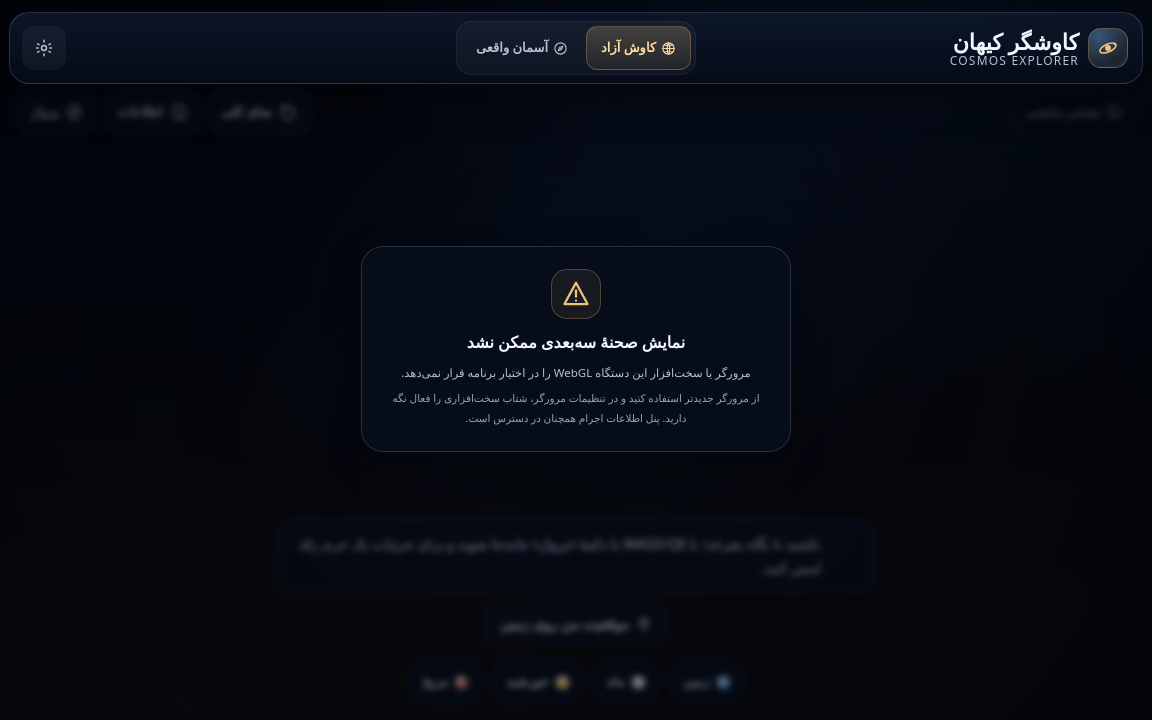
Test case: application flows › keeps the map layer control available without attribution when no map is active
Expected: the heading "نمایش صحنهٔ سه‌بعدی ممکن نشد" is shown, [467,331,685,353]
Click the button "موقعیت من روی زمین": point(576, 624) [486,602,666,646]
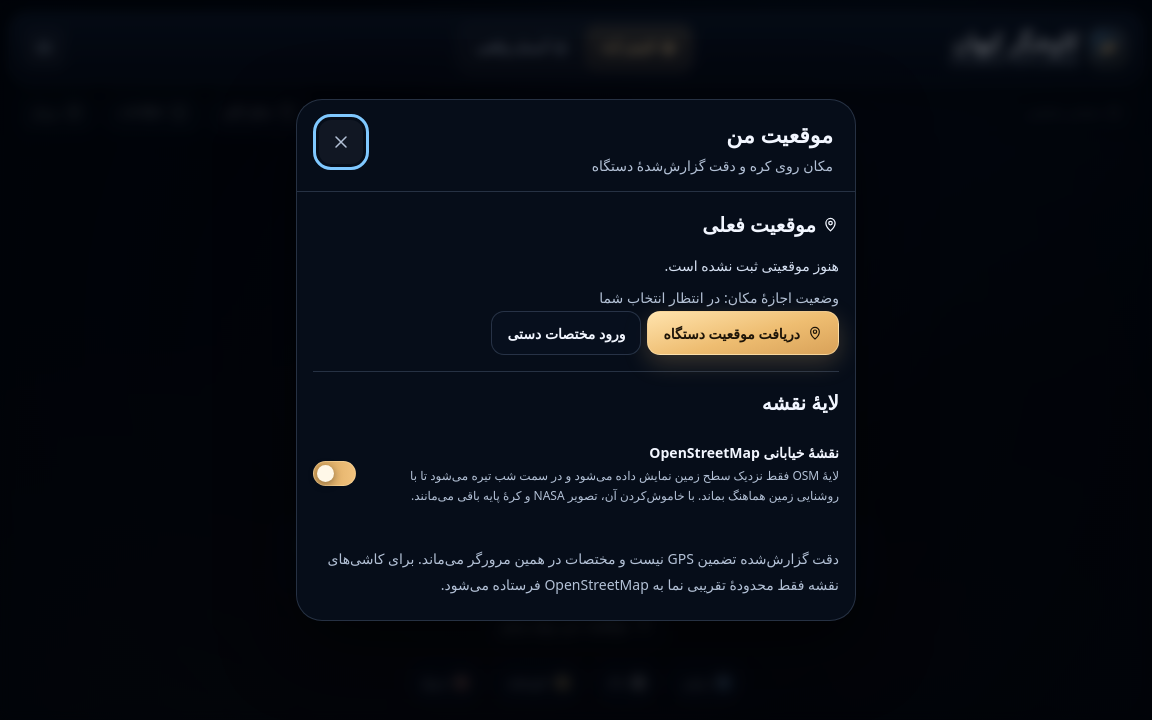
Click the button "ورود مختصات دستی": point(566, 333) [491,311,641,355]
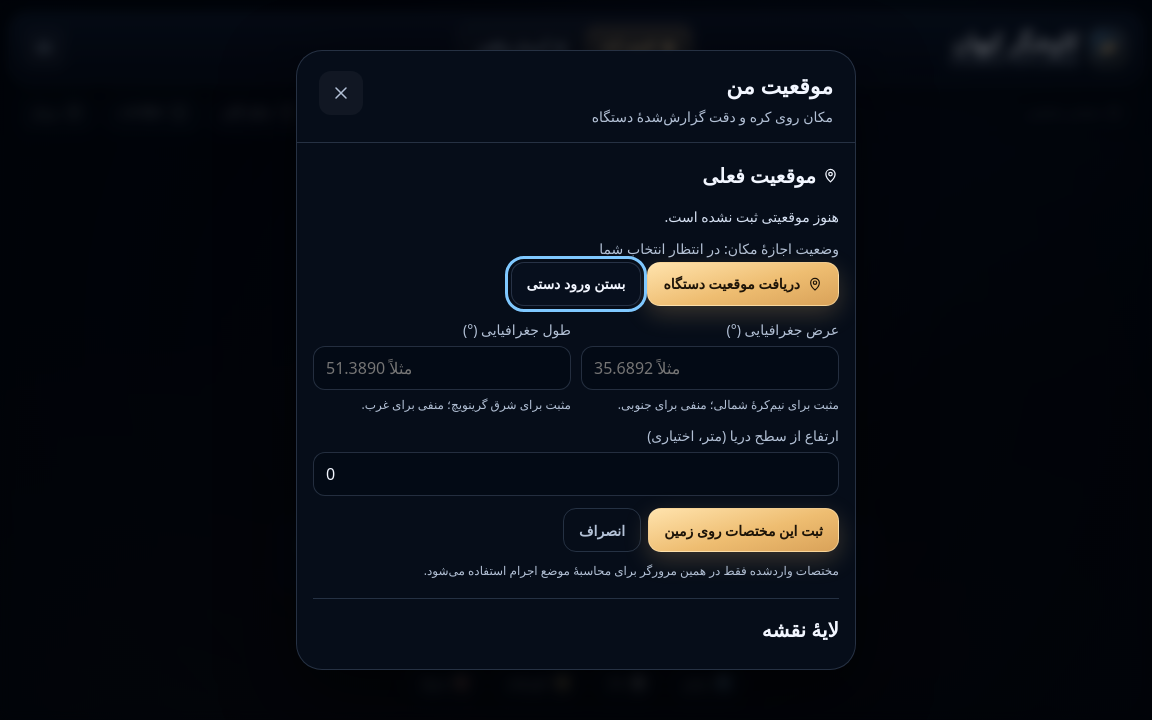
In the field with placeholder "مثلاً 35.6892": point(710, 368) [581,346,839,390], type "35.6892"
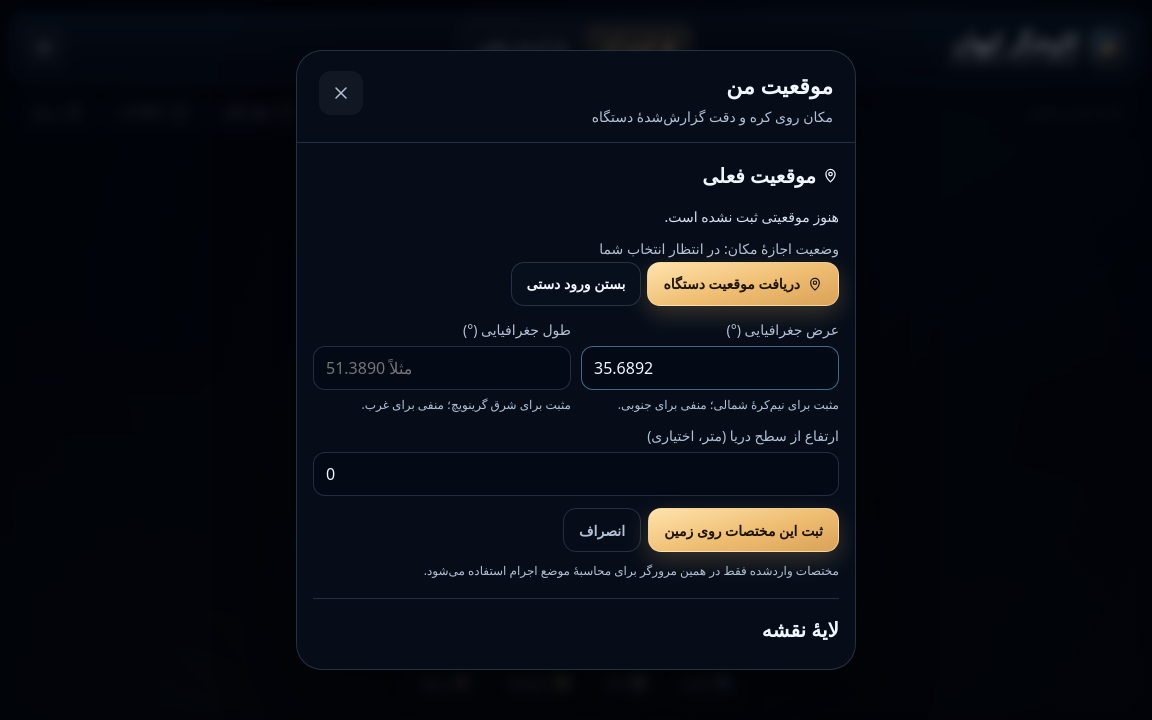
In the field with placeholder "مثلاً 51.3890": point(442, 368) [313,346,571,390], type "51.389"
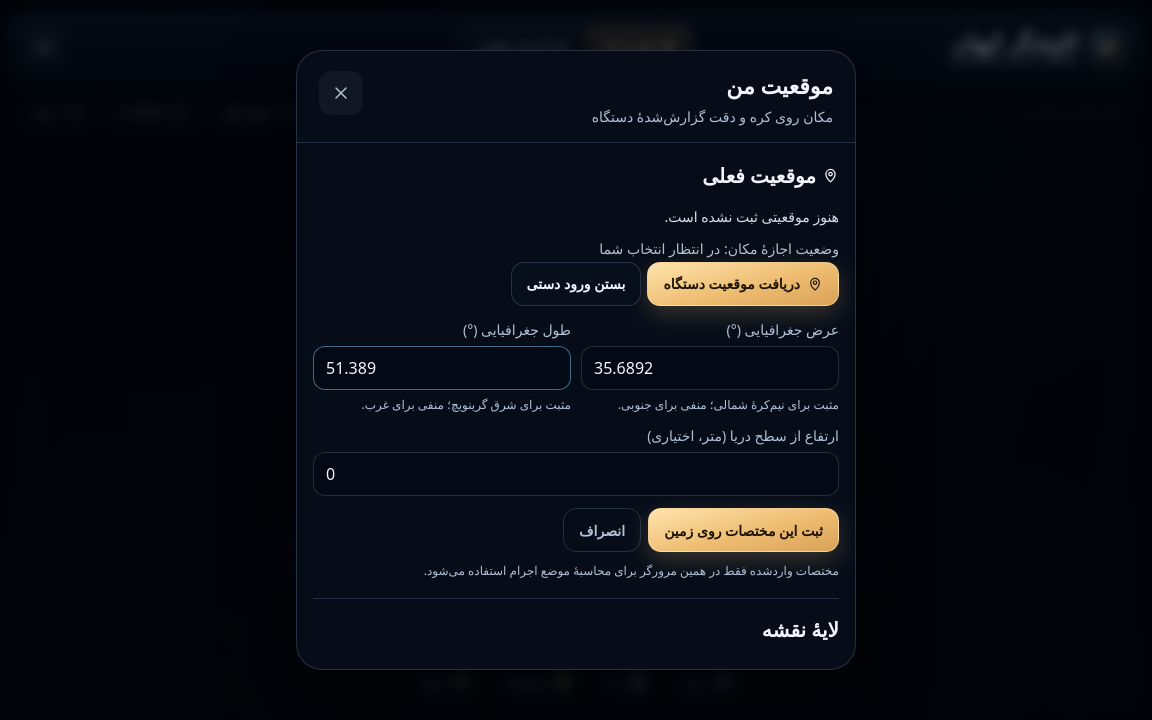
Click the button "ثبت این مختصات روی زمین": point(744, 530) [648,508,839,552]
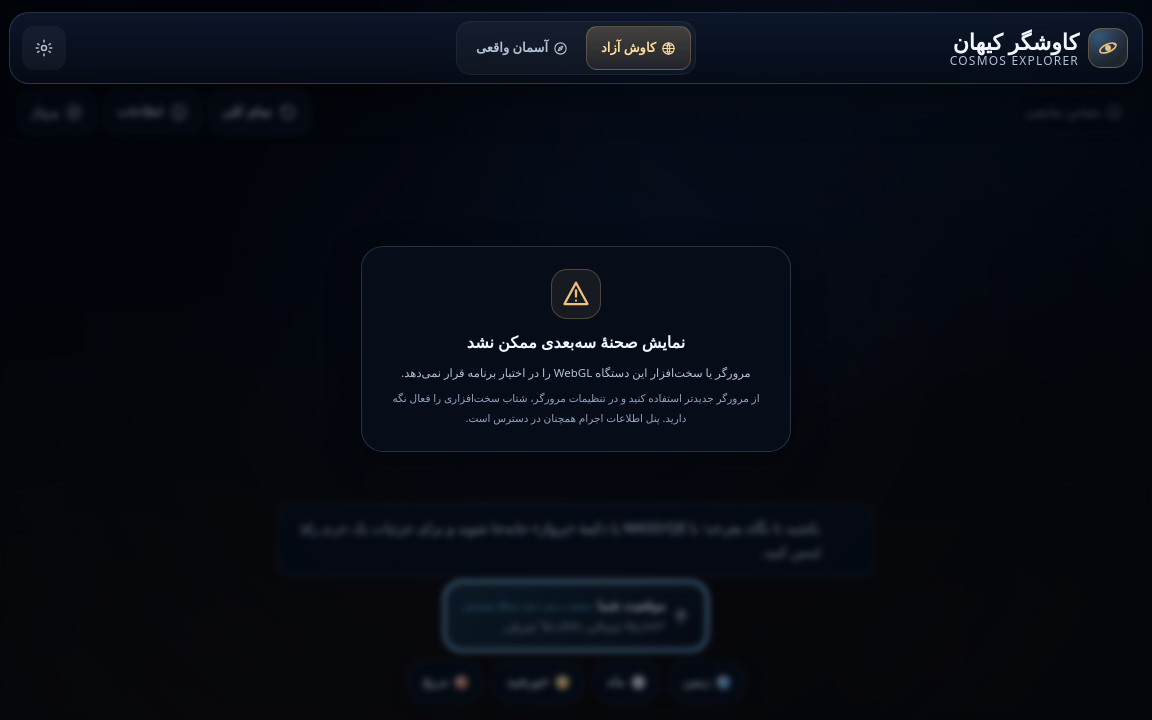
Now the button "موقعیت شما" is shown
Click the button "موقعیت شما": point(576, 616) [449,586,703,646]
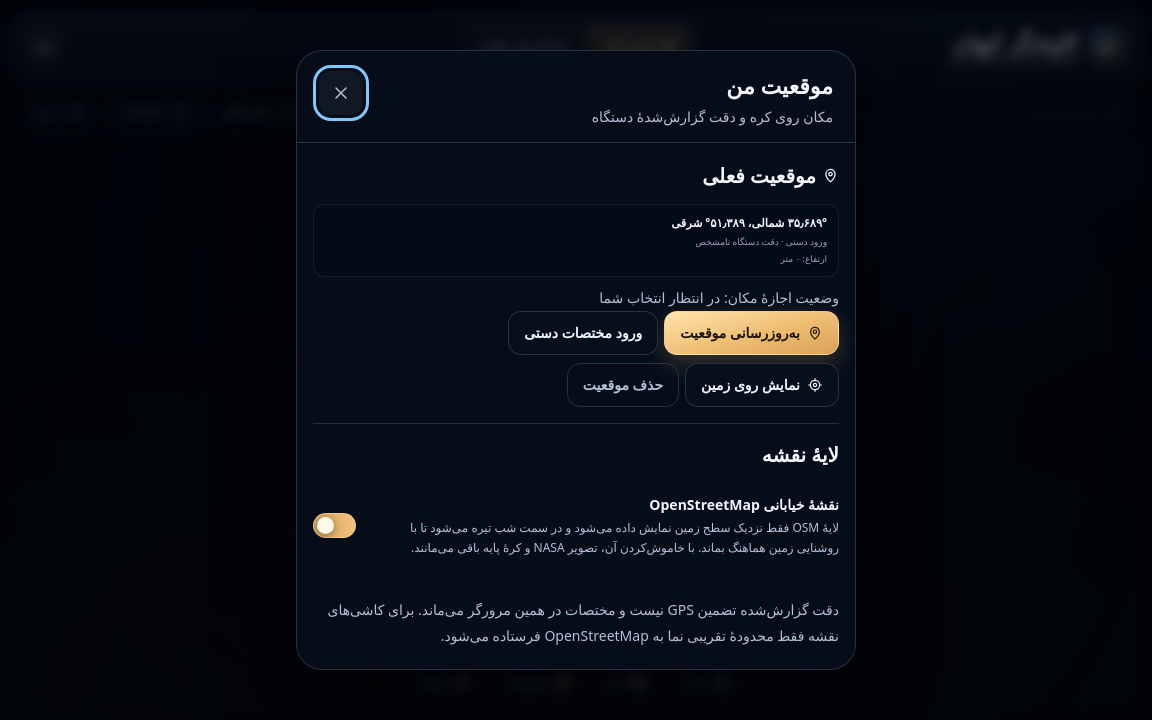
Now the switch labelled "نقشهٔ خیابانی" is checked, box [313,483,839,567]
